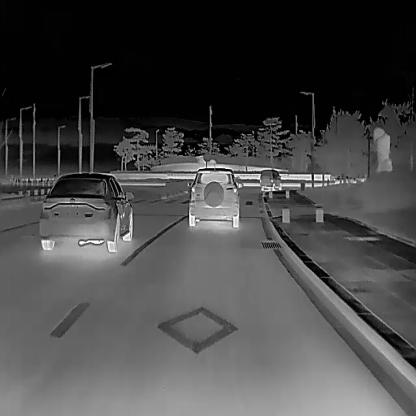car: (38, 171, 134, 252), (187, 166, 243, 228), (258, 168, 283, 192)
